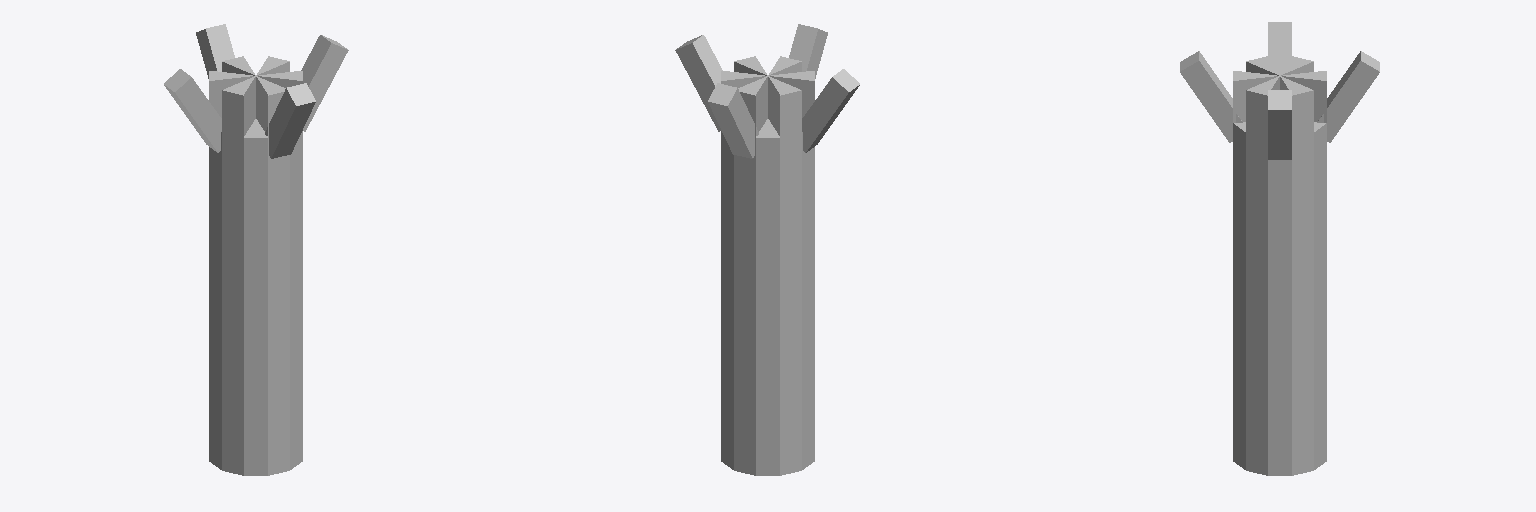
Rendered from wand.obj.
3 renders of one model, left to right at view 1: azimuth 30°, elevation 25°; view 2: azimuth 150°, elevation 25°; view 3: azimuth 270°, elevation 25°, orthographic.
Parts seen in each view (by area): view 1: cylinder, cube; view 2: cylinder, cube; view 3: cylinder, cube.
Boxes of the visible parts, box(x1,y1,x2,y2) form: cylinder: box(209, 56, 302, 475); cube: box(164, 24, 348, 158); cylinder: box(721, 56, 814, 475); cube: box(675, 24, 859, 158); cylinder: box(1233, 56, 1326, 475); cube: box(1180, 22, 1379, 159).
Bounding box in the file's own units: 0.2691 × 0.5921 × 0.2691.